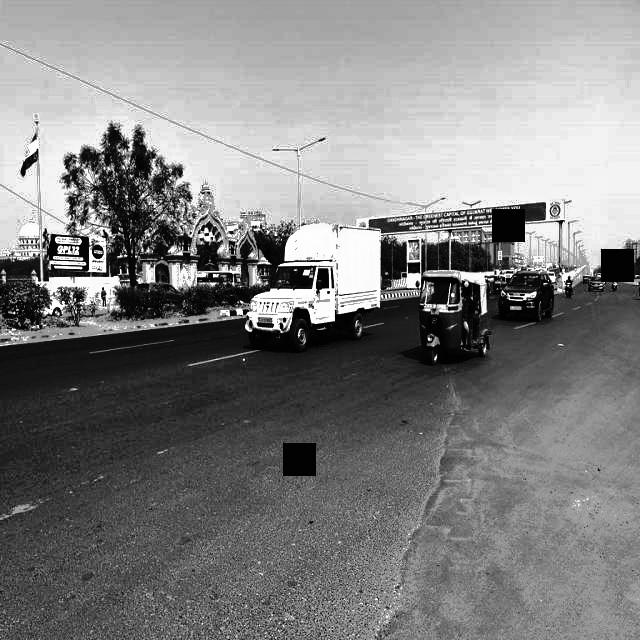Auto-Rickshaw: (415, 268, 492, 366)
Car: (500, 263, 560, 320)
LCV: (243, 220, 392, 348)
